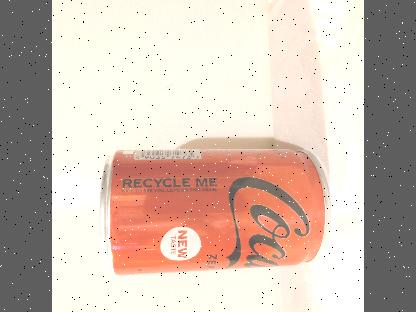Can: (99, 147, 331, 275)
